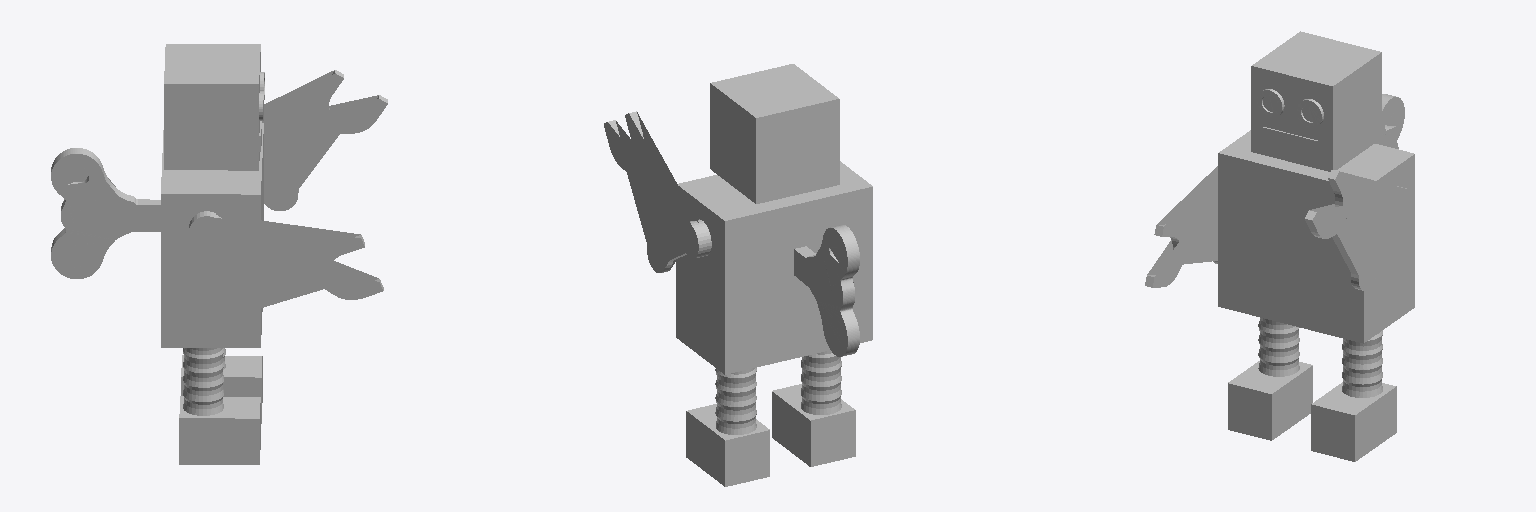
File: Robot.obj
The picture shows the model from 3 angles: view 1: azimuth 30°, elevation 25°; view 2: azimuth 150°, elevation 25°; view 3: azimuth 270°, elevation 25°; orthographic projection.
Parts seen in each view (by area): view 1: Robot_Plane.049; view 2: Robot_Plane.049; view 3: Robot_Plane.049.
Part boxes in pixels (left/top/right/bottom): Robot_Plane.049: left=51, top=44, right=387, bottom=464; Robot_Plane.049: left=604, top=64, right=872, bottom=486; Robot_Plane.049: left=1145, top=31, right=1414, bottom=461.
Bounding box in the file's own units: 0.1288 × 0.153 × 0.1015.